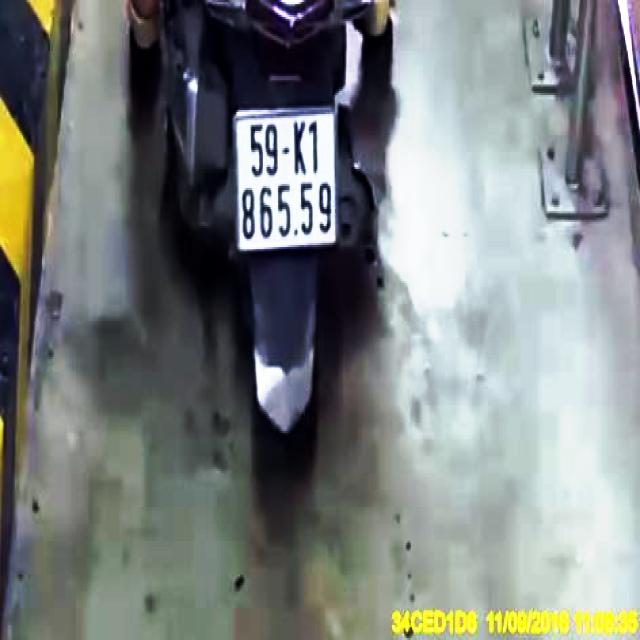license_plate: (231, 106, 342, 253)
